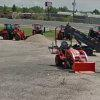Tractor: (47, 28, 94, 78)
